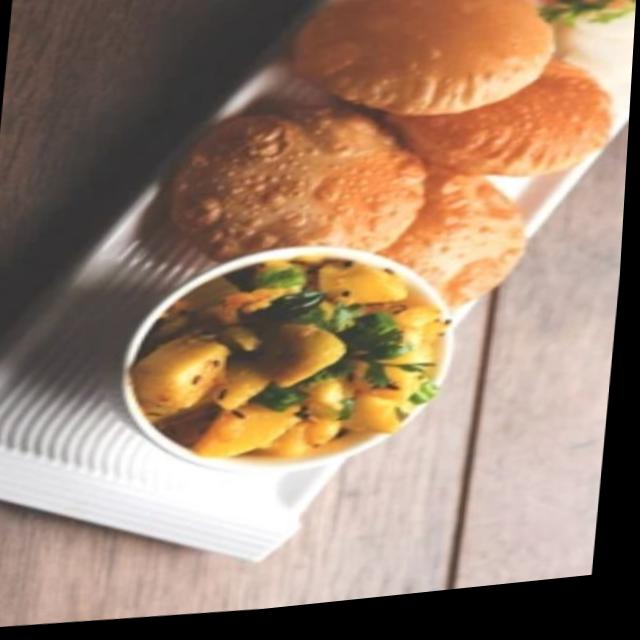POORI: (168, 0, 612, 308)
VEGGIES: (131, 259, 435, 465)
